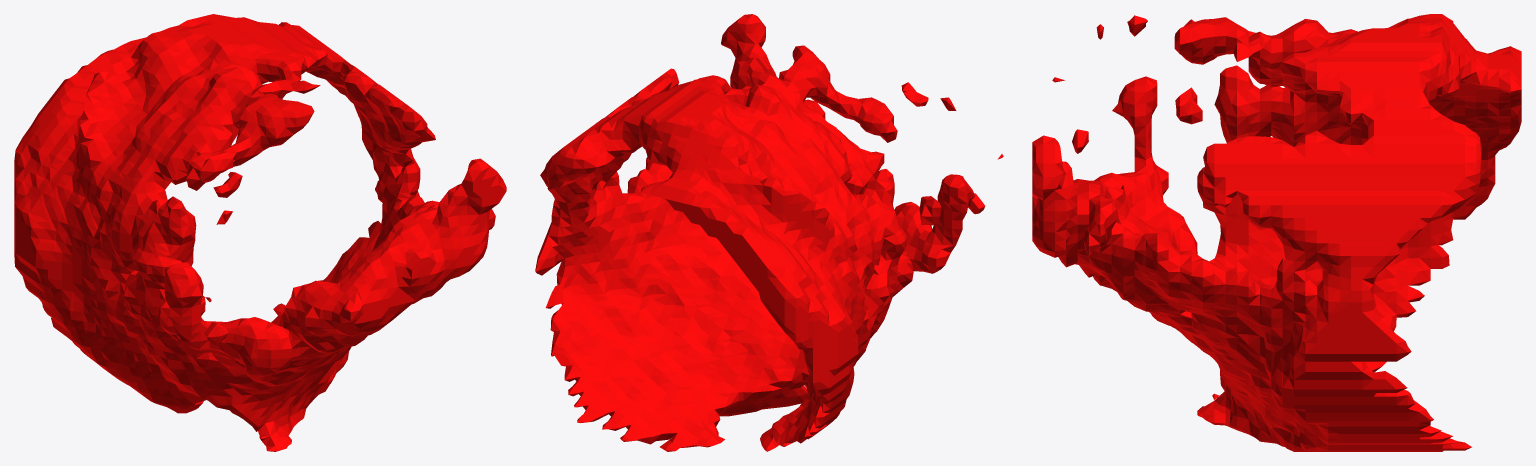
File: B939XXXX-1_valve_14.obj
The picture shows the model from 3 angles, left to right: view 1: azimuth 30°, elevation 25°; view 2: azimuth 150°, elevation 25°; view 3: azimuth 270°, elevation 25°; orthographic projection. The views are drawn at different scales.
Visible parts, largest first — view 1: 14_valve; view 2: 14_valve; view 3: 14_valve.
Boxes of the visible parts, x1=… form: 14_valve: x1=14, y1=14, x2=506, y2=451; 14_valve: x1=535, y1=14, x2=1003, y2=451; 14_valve: x1=1032, y1=14, x2=1521, y2=451.
Size of the model in its own units: 77.98 by 76.97 by 85.95.
